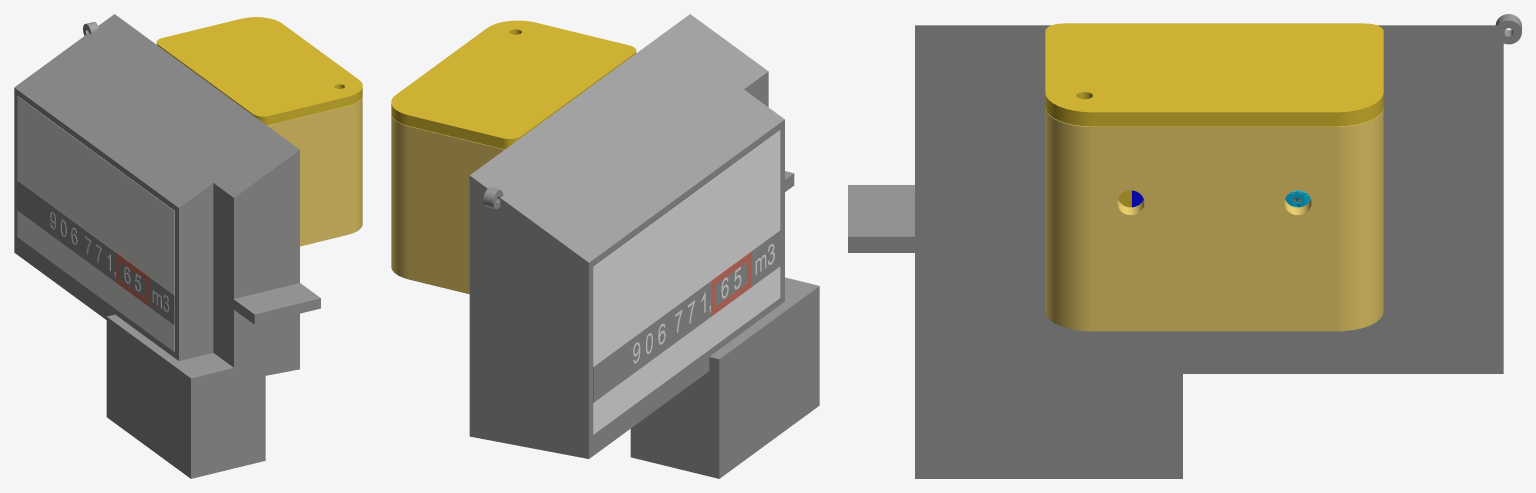
File: MCColor_add.glb
3 views of the same model, side by side, from view 1: azimuth 30°, elevation 25°; view 2: azimuth 150°, elevation 25°; view 3: azimuth 270°, elevation 25° (orthographic). The views are drawn at different scales.
Parts seen in each view (by area): view 1: Gasmeter (3), Gasmeter, Body44, Platte, Deckel, Body45, Body29, Body31, Body32, Body30; view 2: Gasmeter (3), Gasmeter, Body44, Platte, Deckel, Body45, Body29, Body31, Body32, Body30; view 3: Gasmeter (3), Deckel, Platte, Gasmeter.
Part boxes in pixels (box(x1,y1,x2,y2)): Gasmeter (3): box(14, 14, 320, 375); Gasmeter: box(106, 314, 265, 478); Body44: box(17, 96, 174, 294); Platte: box(156, 17, 362, 125); Deckel: box(267, 96, 362, 246); Body45: box(17, 210, 174, 351); Body29: box(17, 180, 116, 282); Body31: box(149, 277, 174, 325); Body32: box(116, 253, 149, 306); Body30: box(119, 261, 145, 298); Gasmeter (3): box(469, 14, 794, 458); Gasmeter: box(630, 277, 819, 478); Body44: box(593, 130, 780, 366); Platte: box(391, 20, 636, 149); Deckel: box(391, 115, 504, 294); Body45: box(593, 266, 780, 434); Body29: box(593, 281, 711, 402); Body31: box(751, 230, 780, 286); Body32: box(711, 252, 751, 315); Body30: box(715, 262, 747, 305); Gasmeter (3): box(848, 14, 1521, 373); Deckel: box(1045, 107, 1383, 331); Platte: box(1045, 23, 1383, 207); Gasmeter: box(915, 374, 1182, 478).
Size of the model in its own units: 0.078 by 0.1012 by 0.1282.
